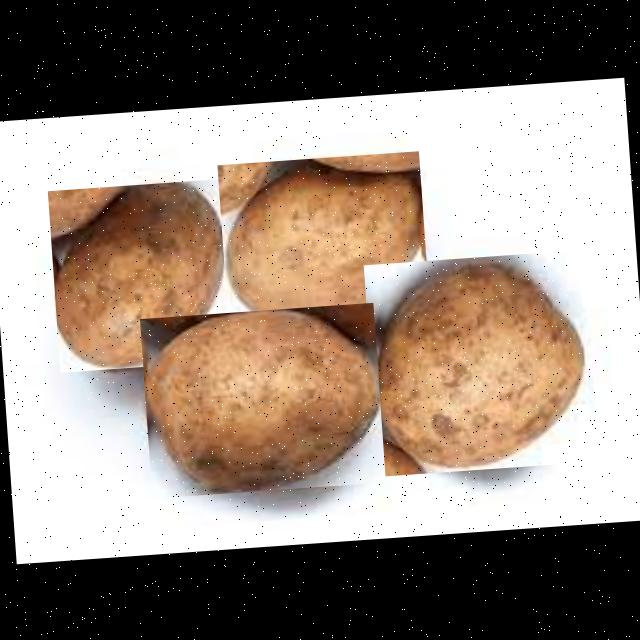Diseased-fungal potato: (364, 249, 594, 476), (140, 302, 386, 498), (217, 150, 430, 330), (48, 178, 234, 372)
